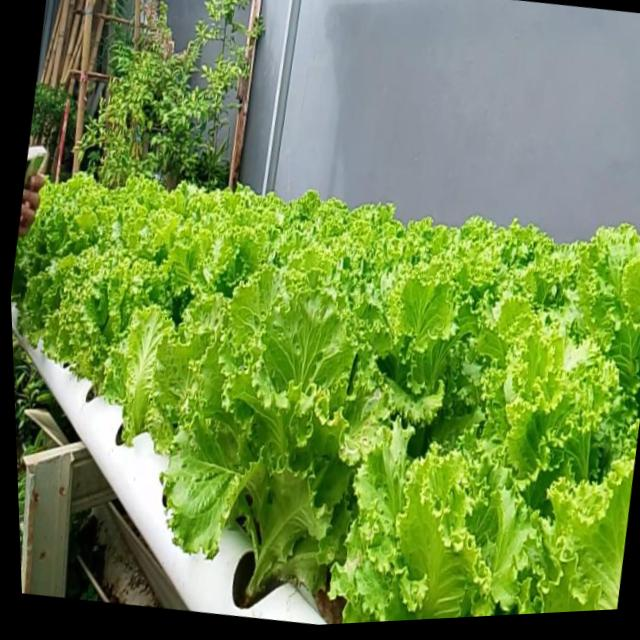Mature: (11, 168, 640, 624), (162, 281, 379, 613), (46, 248, 158, 413)
